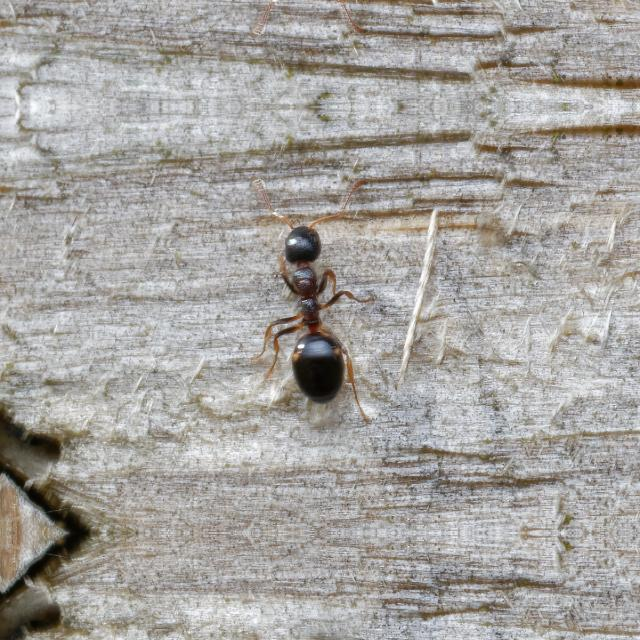Dolichoderus: (222, 183, 398, 419)
